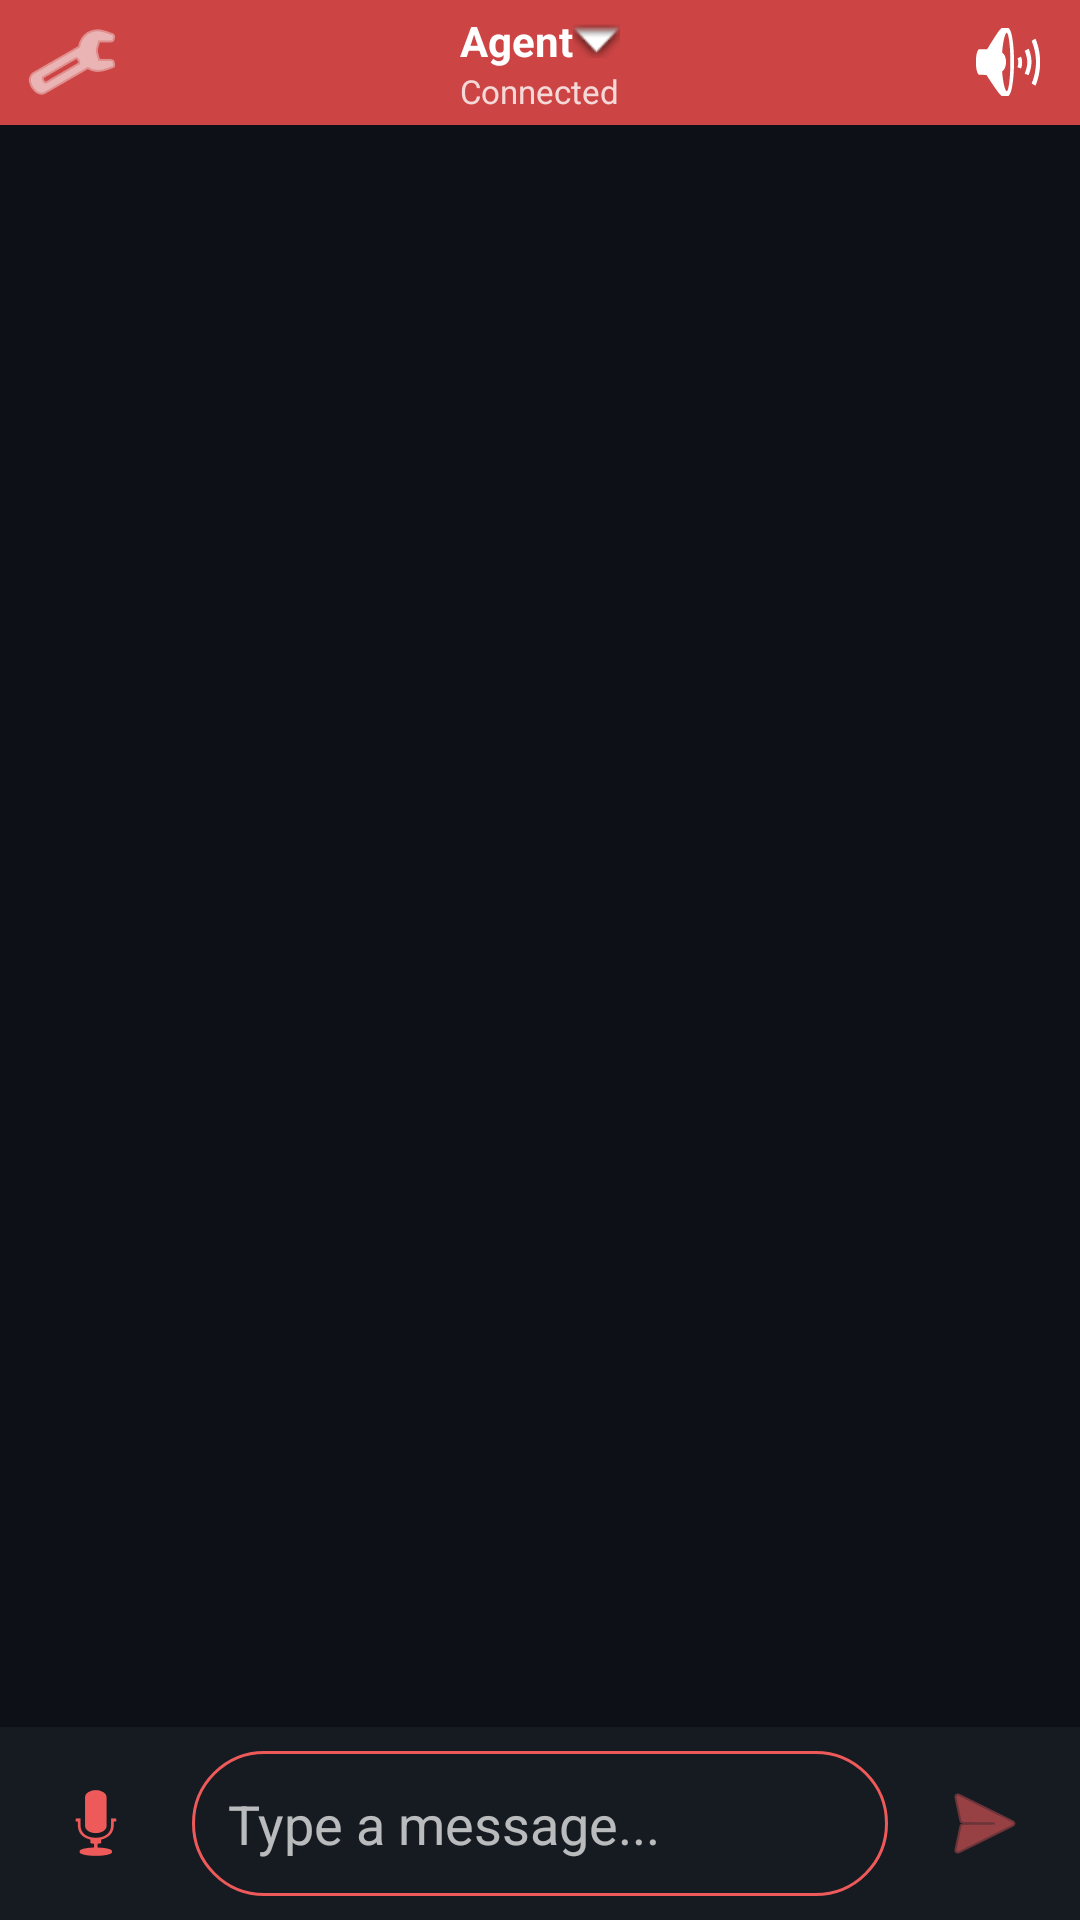

Point at icon controls on the screen. Image size 1080w x 1920h, points as point (x, y).
Send message: point (985, 1823)
Toggle voice mode: point (1008, 62)
Voice input: point (96, 1823)
